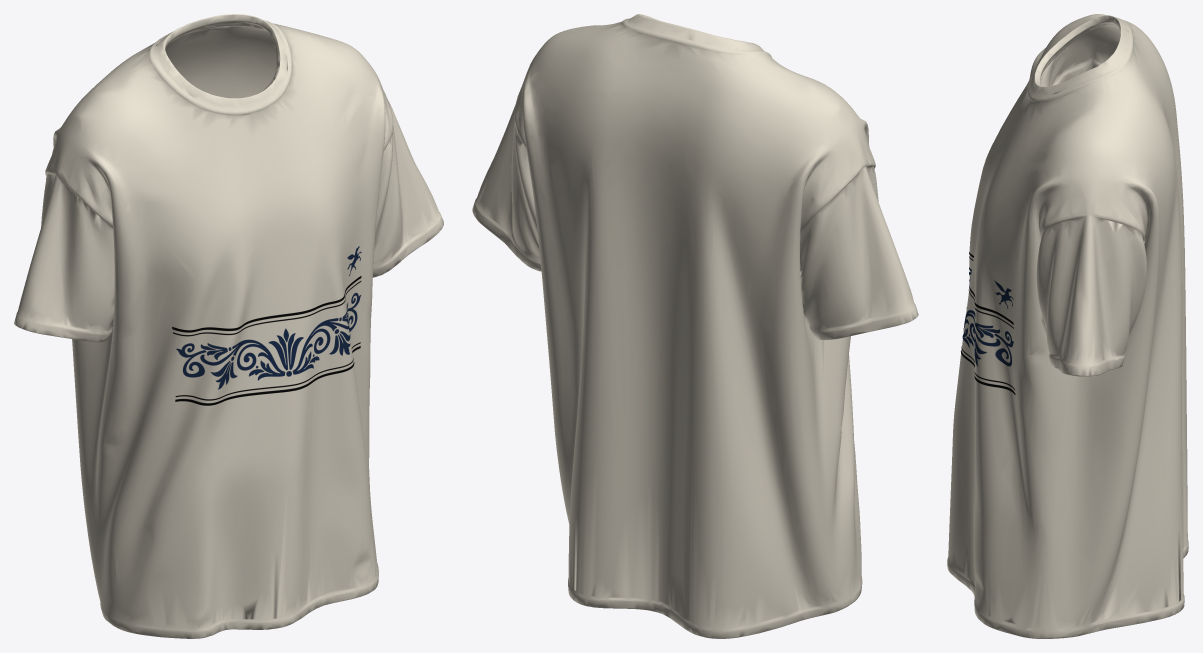
The model's file is 08-cobalt-ornament-tee.glb.
3 renders of one model, left to right at view 1: azimuth 30°, elevation 25°; view 2: azimuth 150°, elevation 25°; view 3: azimuth 270°, elevation 25°, orthographic. The views are drawn at different scales.
Visible parts, largest first — view 1: node_0007, IPU / conforming front print; view 2: node_0007; view 3: node_0007, IPU / conforming front print.
Part boxes in pixels (x1=…): node_0007: x1=14, y1=14, x2=443, y2=638; IPU / conforming front print: x1=172, y1=246, x2=361, y2=405; node_0007: x1=472, y1=14, x2=918, y2=638; node_0007: x1=947, y1=14, x2=1188, y2=638; IPU / conforming front print: x1=961, y1=251, x2=1015, y2=395.
Size of the model in its own units: 0.3696 by 0.4564 by 0.1826.
2 materials, 1 textured.
